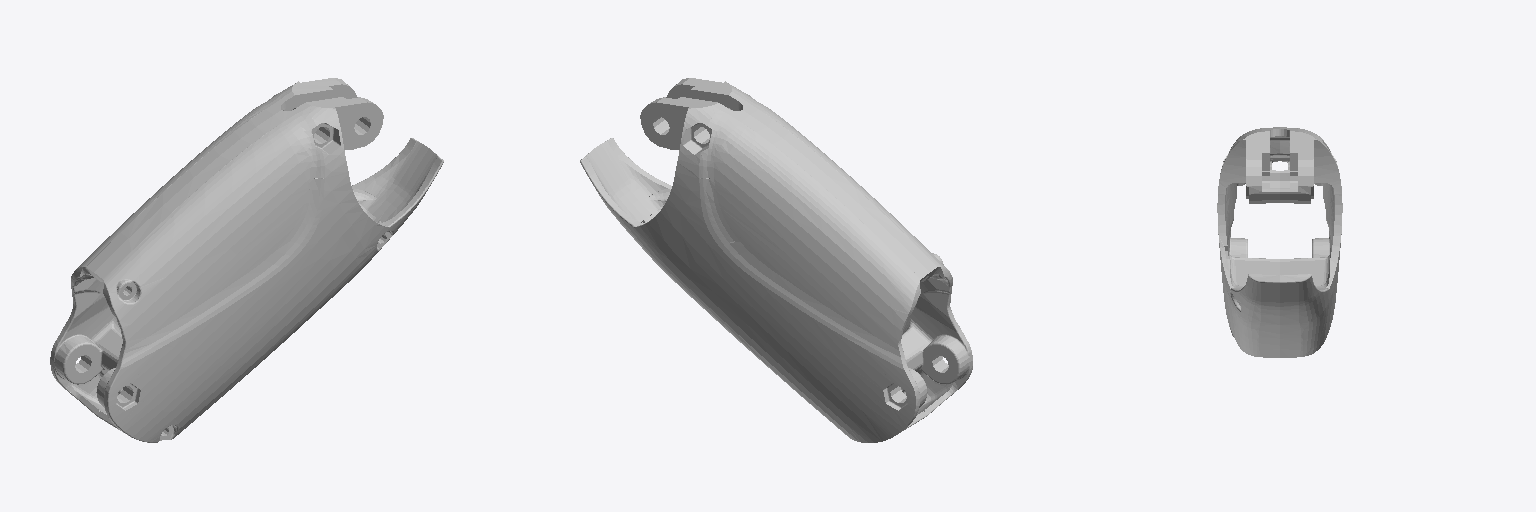
3 views of the same model, side by side, from view 1: azimuth 30°, elevation 25°; view 2: azimuth 150°, elevation 25°; view 3: azimuth 270°, elevation 25° (orthographic).
Visible parts, largest first — view 1: Link12_R; view 2: Link12_R; view 3: Link12_R.
Boxes of the visible parts, box(x1,y1,x2,y2) form: Link12_R: box(50, 78, 443, 442); Link12_R: box(580, 78, 972, 442); Link12_R: box(1217, 127, 1342, 357).
Bounding box in the file's own units: 0.0634 × 0.0501 × 0.0194.